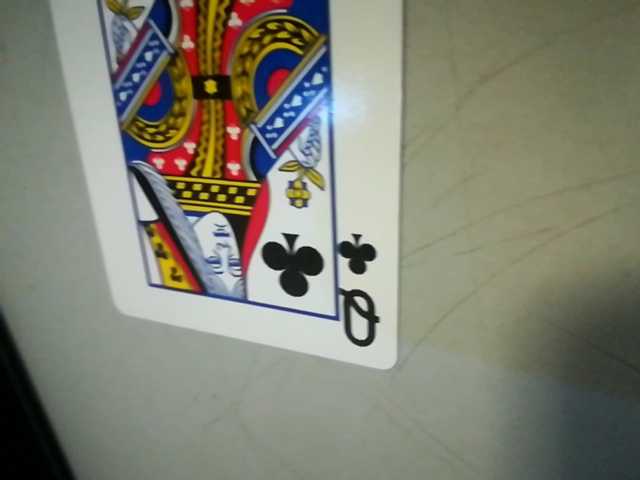mh q: (330, 230, 395, 358)
